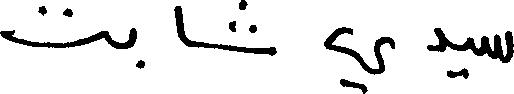X: (0, 1, 103, 52), (325, 22, 392, 93), (485, 26, 513, 67), (429, 23, 446, 56), (176, 1, 187, 50), (466, 32, 472, 83), (129, 23, 135, 52), (268, 42, 275, 60)
